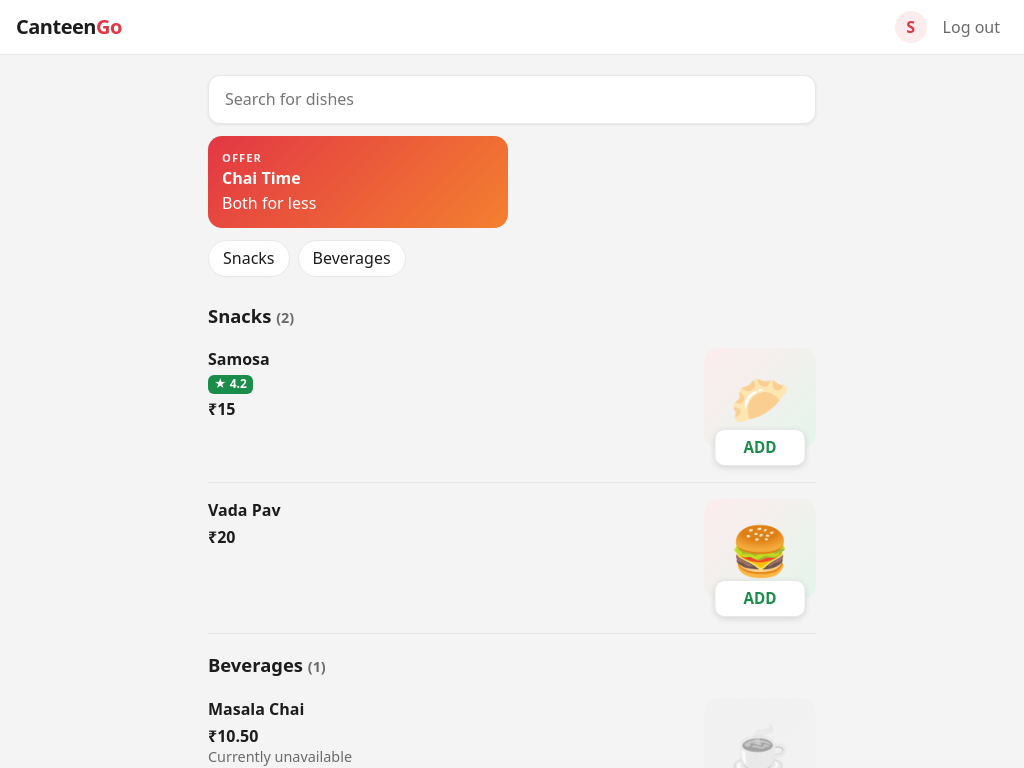
Test: student app › opens the cart page with items from the menu
The image size is (1024, 768).
Expected: the heading "Vada Pav" is shown, [208,499,280,521]
What coordinates should you click on to do the following:
click the button with aria-label "add vada pav"
I would click on:
 (760, 599)
Its box is [714,580,806,617].
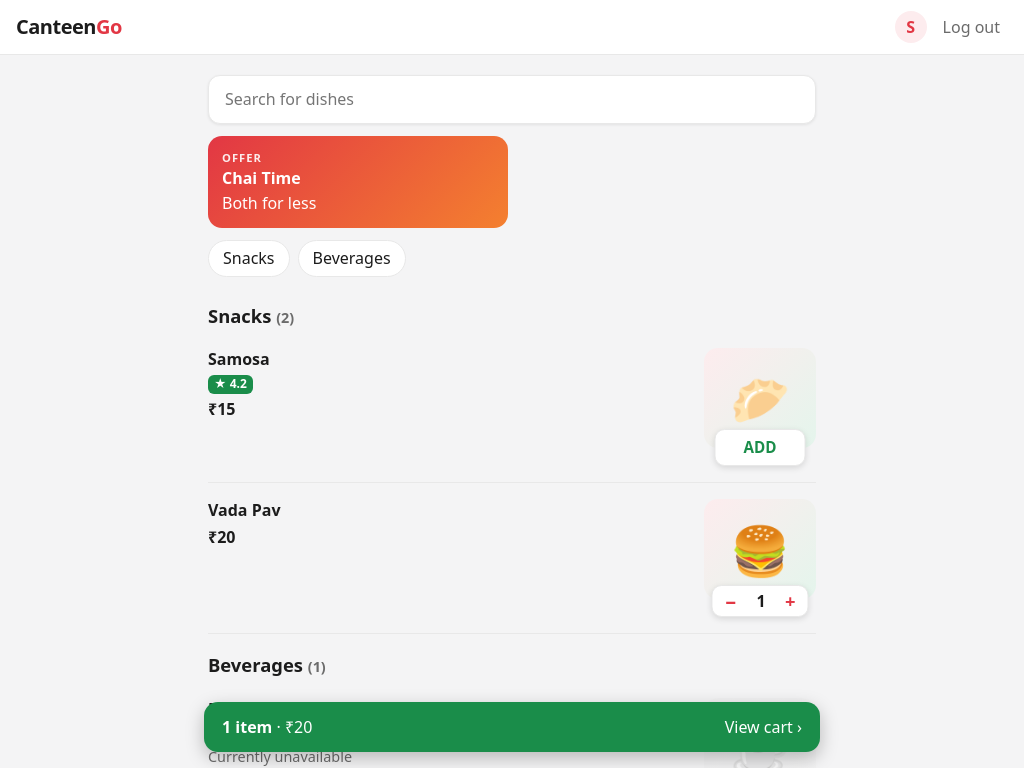
What coordinates should you click on to do the following:
click the text "View cart ›"
I would click on:
 (763, 727)
Its box is [725,716,802,738].
(page scrolled)
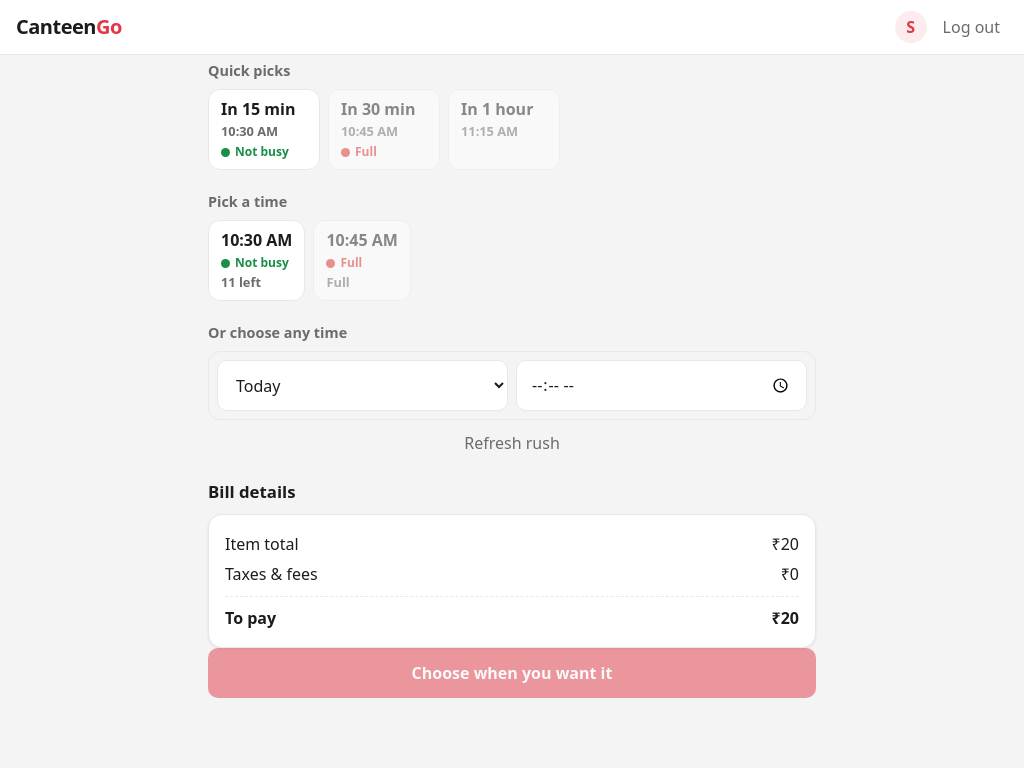
Expected: the heading "Bill details" is shown, [208,480,296,503]
